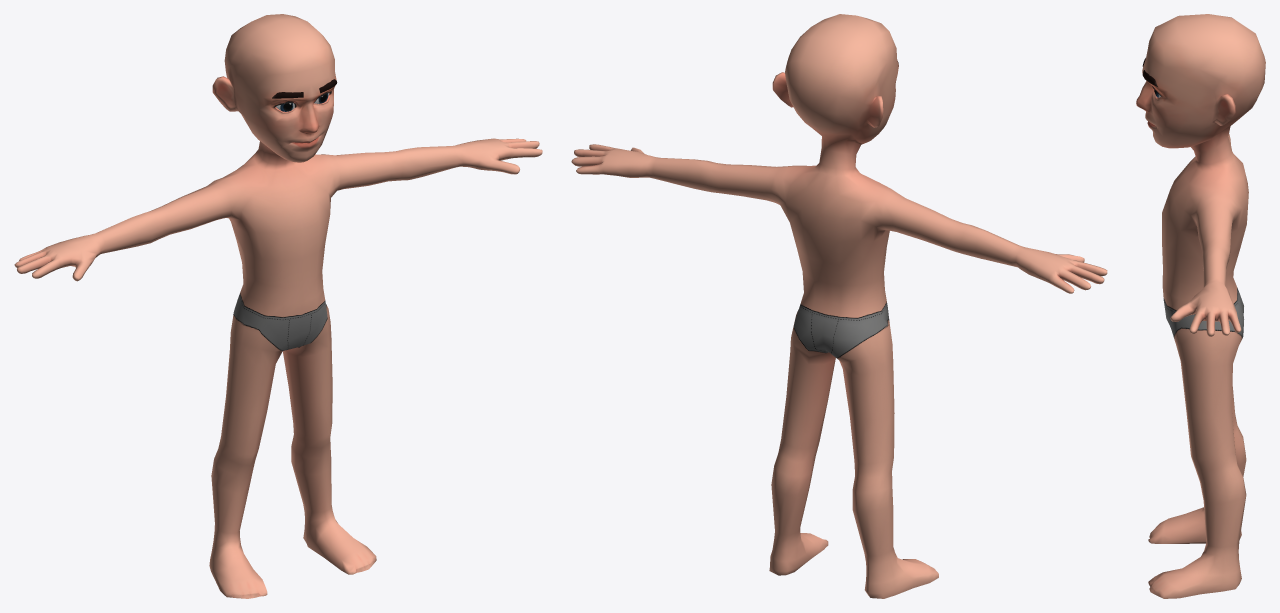
File: male_body.glb
3 views of the same model, side by side, from view 1: azimuth 30°, elevation 25°; view 2: azimuth 150°, elevation 25°; view 3: azimuth 270°, elevation 25° (orthographic).
Visible parts, largest first — view 1: male_body; view 2: male_body; view 3: male_body.
Boxes of the visible parts, bbox=[...] form: male_body: bbox=[14, 14, 542, 598]; male_body: bbox=[571, 14, 1107, 598]; male_body: bbox=[1136, 14, 1265, 598].
Bounding box in the file's own units: 0.0592 × 0.059 × 0.0127.
1 material, 1 textured.
